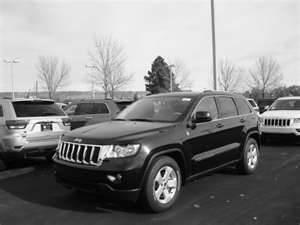car: (54, 91, 268, 211)
